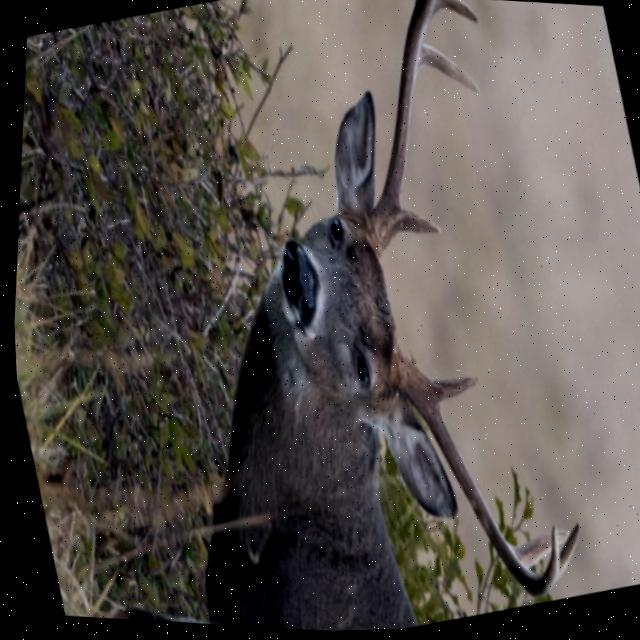L-F: (384, 332, 552, 601)
L-G1: (421, 378, 475, 407)
L-G3: (551, 521, 576, 582)
R-F: (360, 0, 436, 262)
R-G1: (394, 208, 440, 238)
R-G2: (416, 44, 479, 98)
R-G3: (431, 0, 479, 27)
